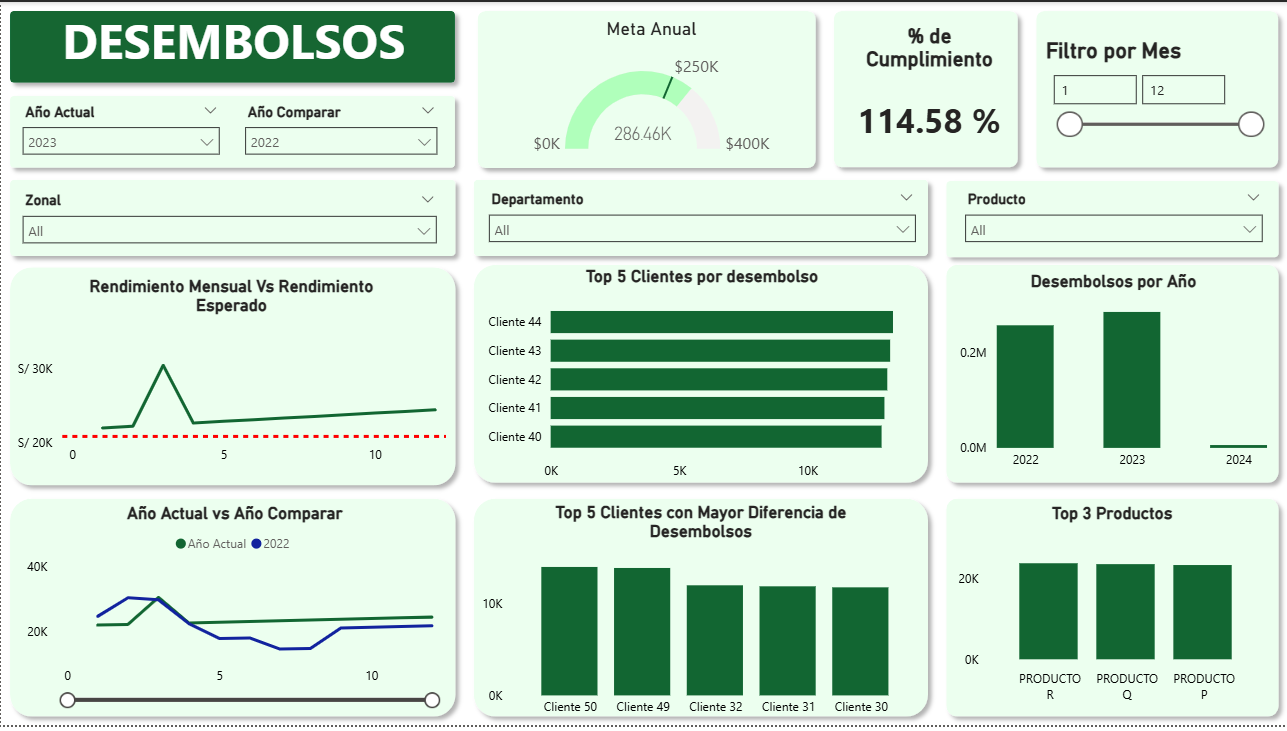

The dashboard page shown, as its layout file describes it:
{"tool":"powerbi","page":{"name":"Reporte_Desembolsos","canvas":[1280,720],"ordinal":0},"visuals":[{"type":"group","id":"g1","title":"Group 1","box":[0,0,1280,720],"z":0},{"type":"shape","box":[0,485,461.2,235],"z":0,"group":"g1"},{"type":"gauge","title":"Meta Anual","fields":{"Y":["Sum(DESEMBOLSOS.monto)"],"MinValue":["Metricas.Valor_min"],"MaxValue":["Metricas.Valor_Max"],"TargetValue":["Metricas.Valor_objetivo"]},"box":[490,15.6,314.4,140],"z":1000},{"type":"shape","box":[931.2,252.5,348.8,235],"z":1000,"group":"g1"},{"type":"cardVisual","title":"% de Cumplimiento","fields":{"Data":["Metricas.Porcentaje_respecto_meta_anual"]},"box":[820,21.2,208.8,138.8],"z":2000},{"type":"shape","box":[0,255,461.2,235],"z":2000,"group":"g1"},{"type":"slicer","title":"Filtro por Mes","fields":{"Values":["fecha_dim.Número Mes"]},"box":[1035.6,36.7,230,117.8],"z":3000},{"type":"slicer","title":"Filtro ZONA","fields":{"Values":["UBIGEO.zona"]},"box":[11.2,183.8,432.5,61.2],"z":4000},{"type":"shape","box":[461.2,485,470,235],"z":4000,"group":"g1"},{"type":"slicer","title":"Filtro Departamento","fields":{"Values":["UBIGEO.departamento"]},"box":[475,182.5,445,62.5],"z":5000},{"type":"slicer","title":"Filtro Producto","fields":{"Values":["MAESTRA_PRODUCTOS.nombre"]},"box":[948.8,182.5,316.2,67.5],"z":6000},{"type":"slicer","fields":{"Values":["fecha_dim.Año"]},"box":[11.4,95.7,216.4,67.9],"z":7000},{"type":"shape","box":[461.2,252.5,470,235],"z":7000,"group":"g1"},{"type":"lineChart","title":"Rendimiento Mensual Vs Rendimiento Esperado","fields":{"Category":["fecha_dim.Número Mes"],"Y":["Sum(DESEMBOLSOS.monto)"]},"box":[11.2,272.5,436.2,196.2],"z":8000},{"type":"clusteredBarChart","title":"Top 5 Clientes por desembolso","fields":{"Y":["Sum(DESEMBOLSOS.monto)"],"Category":["MAESTRA_CLIENTES.nombre"]},"box":[475,262.5,445,222.5],"z":9000},{"type":"shape","box":[931.2,485,348.8,235],"z":9000,"group":"g1"},{"type":"shape","box":[0,167.5,461.2,93.8],"z":10000,"group":"g1"},{"type":"clusteredColumnChart","title":"Desembolsos por Año","fields":{"Category":["fecha_dim.Año"],"Y":["Sum(DESEMBOLSOS.monto)"]},"box":[949.1,267.5,316,206.5],"z":10000},{"type":"shape","box":[465.2,0,354.5,174.2],"z":11000,"group":"g1"},{"type":"clusteredColumnChart","title":"Top 3 Productos","fields":{"Y":["Sum(DESEMBOLSOS.monto)"],"Category":["MAESTRA_PRODUCTOS.nombre"]},"box":[947.9,498.8,316,206.5],"z":11000},{"type":"shape","box":[820,0,201.1,173.3],"z":12000,"group":"g1"},{"type":"lineChart","title":"Año Actual vs Año Comparar","fields":{"Y":["Sum(DESEMBOLSOS.monto)","Metricas.2022"],"Category":["fecha_dim.Número Mes"]},"box":[21.1,498.8,422.9,206.5],"z":12000},{"type":"slicer","fields":{"Values":["Parameter.Parameter"]},"box":[232.9,95.7,211.4,71.4],"z":13000},{"type":"shape","box":[1021.2,0,258.8,173.8],"z":14000,"group":"g1"},{"type":"clusteredColumnChart","title":"Top 5 Clientes con Mayor Diferencia de Desembolsos","fields":{"Category":["MAESTRA_CLIENTES.nombre"],"Y":["Metricas.Diferencia"]},"box":[473.9,497.6,445.3,222.7],"z":14000},{"type":"textbox","box":[56.2,0,351.5,84.6],"z":15000},{"type":"shape","box":[461.2,167.5,470,93.8],"z":16000,"group":"g1"},{"type":"shape","box":[0,84.3,460.7,89.3],"z":16500,"group":"g1"},{"type":"shape","box":[0,0,460.7,89.3],"z":16750,"group":"g1"},{"type":"shape","box":[931.2,168.8,348.8,93.8],"z":17000,"group":"g1"}]}

Visuals, with their boxes in screenshot pixels (x1, y1, x2, y2), scaled from the page's 1280x720 canvas onto the 1287x731 screenshot:
"Group 1" group: bbox=(0, 0, 1286, 730)
shape: bbox=(0, 492, 464, 730)
"Meta Anual" gauge: bbox=(493, 16, 809, 158)
shape: bbox=(936, 256, 1286, 495)
"% de Cumplimiento" cardVisual: bbox=(824, 22, 1034, 162)
shape: bbox=(0, 259, 464, 497)
"Filtro por Mes" slicer: bbox=(1041, 37, 1273, 157)
"Filtro ZONA" slicer: bbox=(11, 187, 446, 249)
shape: bbox=(464, 492, 936, 730)
"Filtro Departamento" slicer: bbox=(478, 185, 925, 249)
"Filtro Producto" slicer: bbox=(954, 185, 1272, 254)
slicer - fecha_dim.Año: bbox=(11, 97, 229, 166)
shape: bbox=(464, 256, 936, 495)
"Rendimiento Mensual Vs Rendimiento Esperado" lineChart: bbox=(11, 277, 450, 476)
"Top 5 Clientes por desembolso" clusteredBarChart: bbox=(478, 267, 925, 492)
shape: bbox=(936, 492, 1286, 730)
shape: bbox=(0, 170, 464, 265)
"Desembolsos por Año" clusteredColumnChart: bbox=(954, 272, 1272, 481)
shape: bbox=(468, 0, 824, 177)
"Top 3 Productos" clusteredColumnChart: bbox=(953, 506, 1271, 716)
shape: bbox=(824, 0, 1027, 176)
"Año Actual vs Año Comparar" lineChart: bbox=(21, 506, 446, 716)
slicer - Parameter.Parameter: bbox=(234, 97, 447, 170)
shape: bbox=(1027, 0, 1286, 176)
"Top 5 Clientes con Mayor Diferencia de Desembolsos" clusteredColumnChart: bbox=(476, 505, 924, 730)
textbox: bbox=(57, 0, 410, 86)
shape: bbox=(464, 170, 936, 265)
shape: bbox=(0, 86, 463, 176)
shape: bbox=(0, 0, 463, 91)
shape: bbox=(936, 171, 1286, 267)
